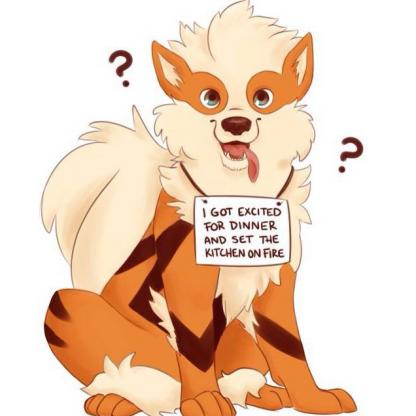Arcanine: (32, 1, 359, 416)
